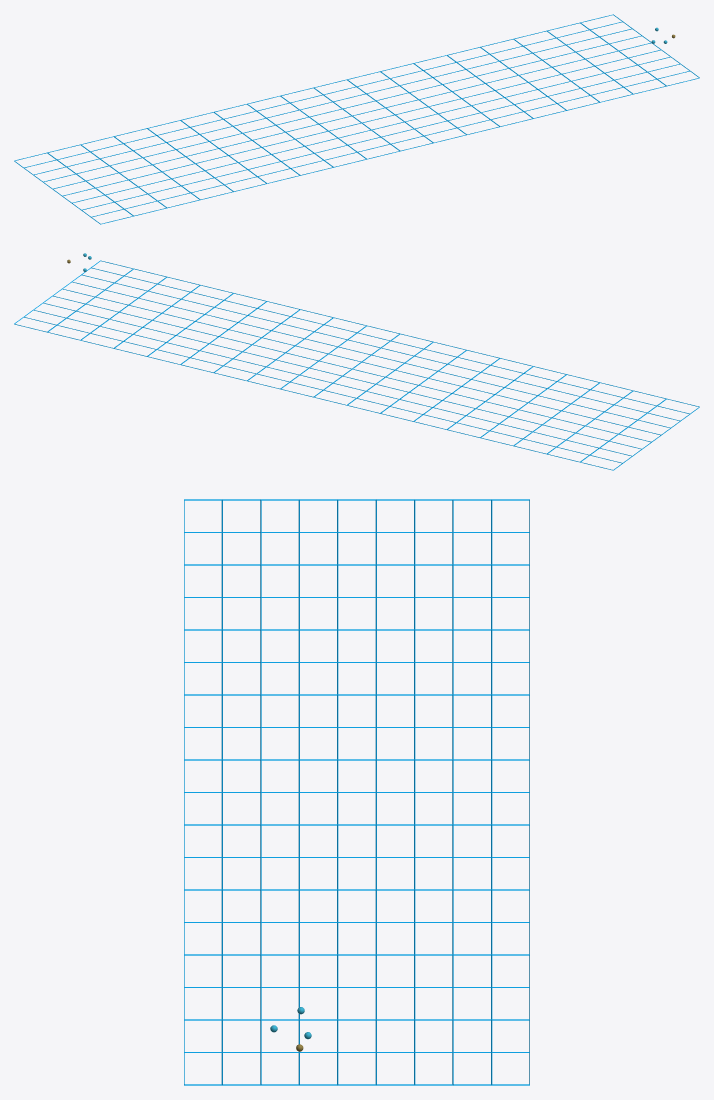
Rendered from fly.glb.
3 views of the same model, one above another, from view 1: azimuth 30°, elevation 25°; view 2: azimuth 150°, elevation 25°; view 3: azimuth 270°, elevation 25° (orthographic). The views are drawn at different scales.
Parts seen in each view (by area): view 1: Grid; view 2: Grid; view 3: Grid.
Part boxes in pixels (x1,y1,x2,y2): Grid: (14,14,699,224); Grid: (14,260,699,470); Grid: (184,499,529,1085).
Size of the model in its own units: 354 by 18.21 by 88.
Materials: 5 (4 with a texture image).
